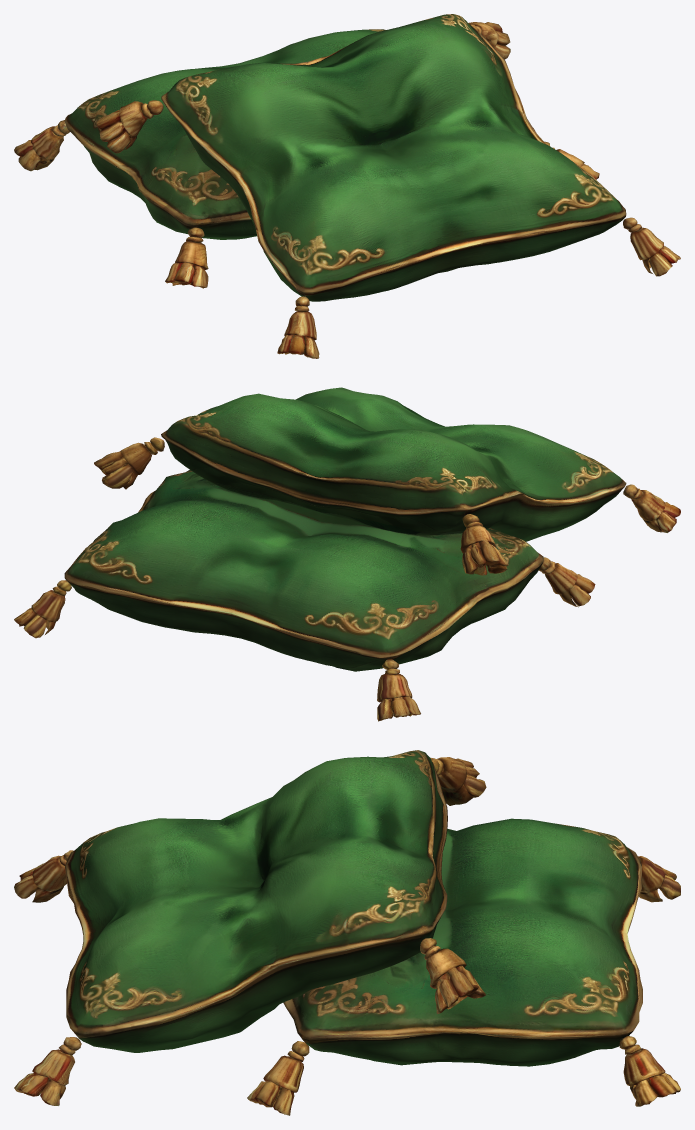
Rendered from Meshy_AI_Emerald_Tassel_Cushio_0721143406_texture.fbx.
3 views of the same model, one above another, from view 1: azimuth 30°, elevation 25°; view 2: azimuth 150°, elevation 25°; view 3: azimuth 270°, elevation 25° (orthographic). The views are drawn at different scales.
Visible parts, largest first — view 1: mesh_node; view 2: mesh_node; view 3: mesh_node.
Part boxes in pixels (x1,y1,x2,y2): mesh_node: (14, 14, 680, 358); mesh_node: (14, 387, 680, 721); mesh_node: (14, 750, 680, 1115).
Size of the model in its own units: 86.72 by 30.76 by 99.8.
Materials: 1 (1 with a texture image).
